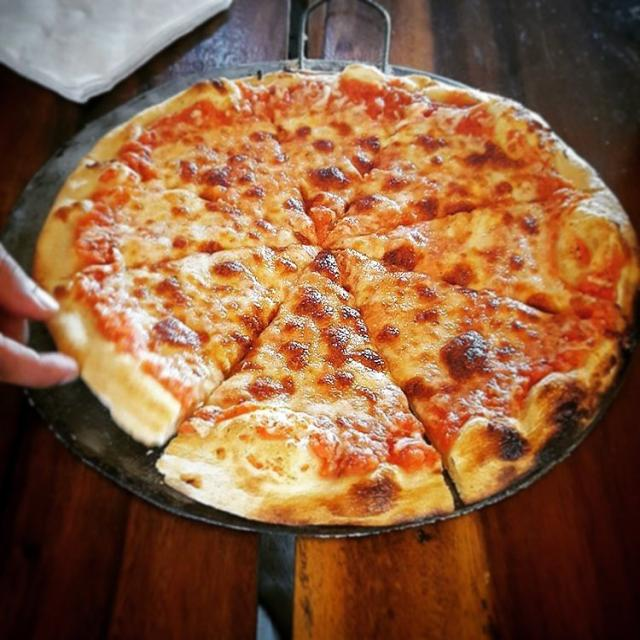pizza: (30, 61, 640, 529)
